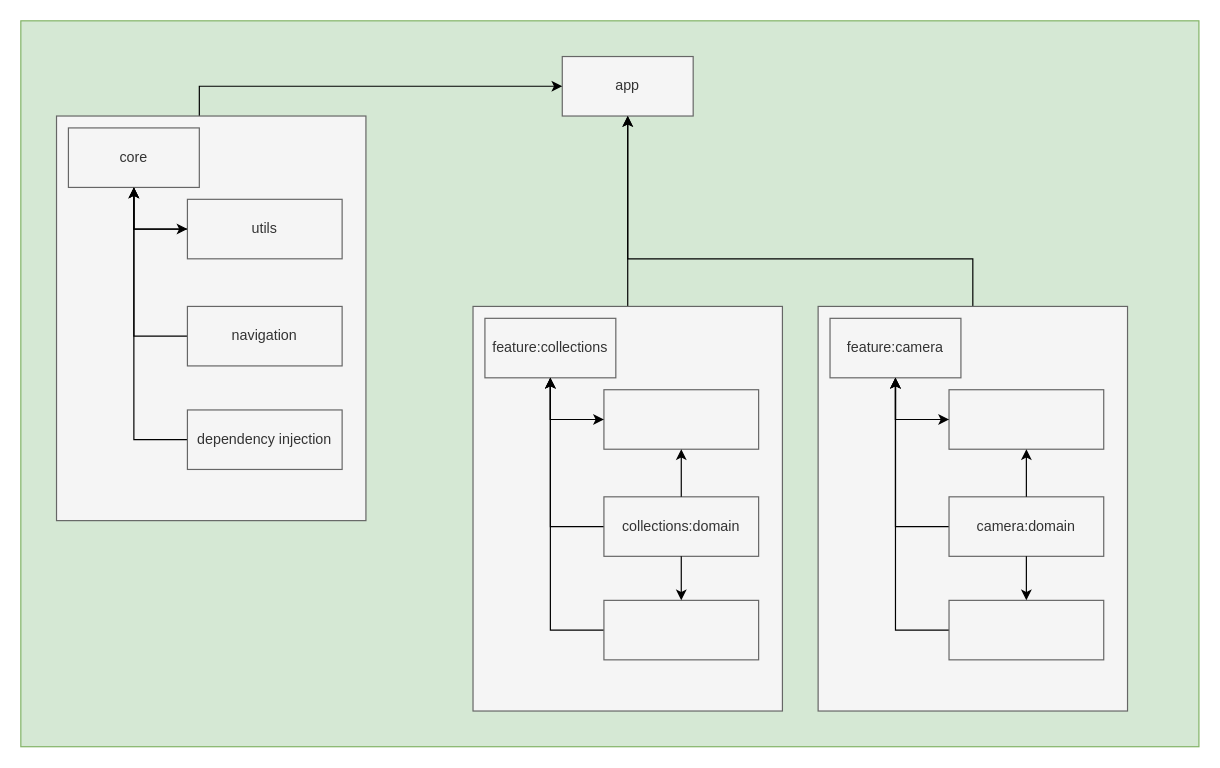
The diagram is 1220 pixels wide and 768 high, and some of its shapes have lost their labels. Here are the shapes that lost their labels. From the top down, the centre of each, then its label:
[681,419]: collections:presentation
[1026,419]: camera:presentation
[681,629]: collections :data
[1026,629]: camera :data
